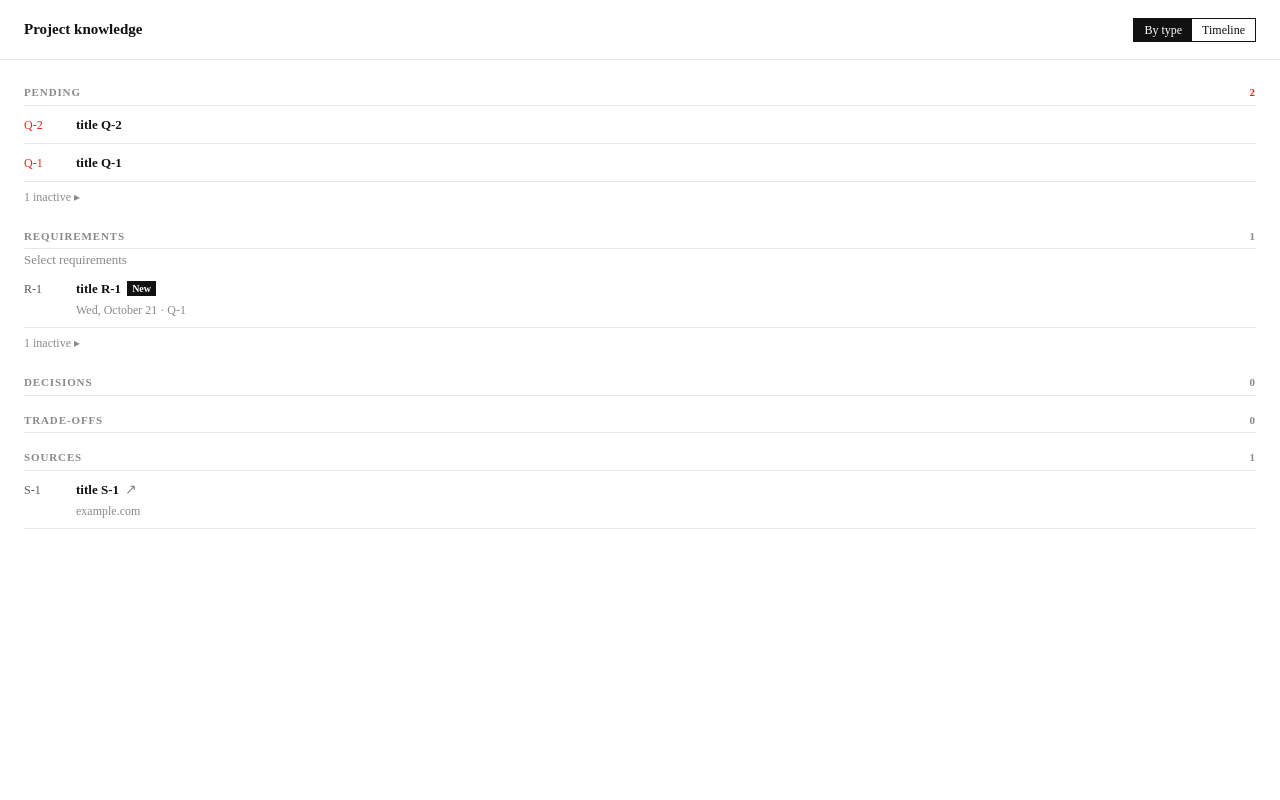
Test: KnowledgePanel › sorts pending by priority and folds inactive entries
Expected: the text "R-2" is not shown
Click the button "1 inactive ▸" below "Wed, October 21 · Q-1" at (52, 343), box [24,328,1256,358]
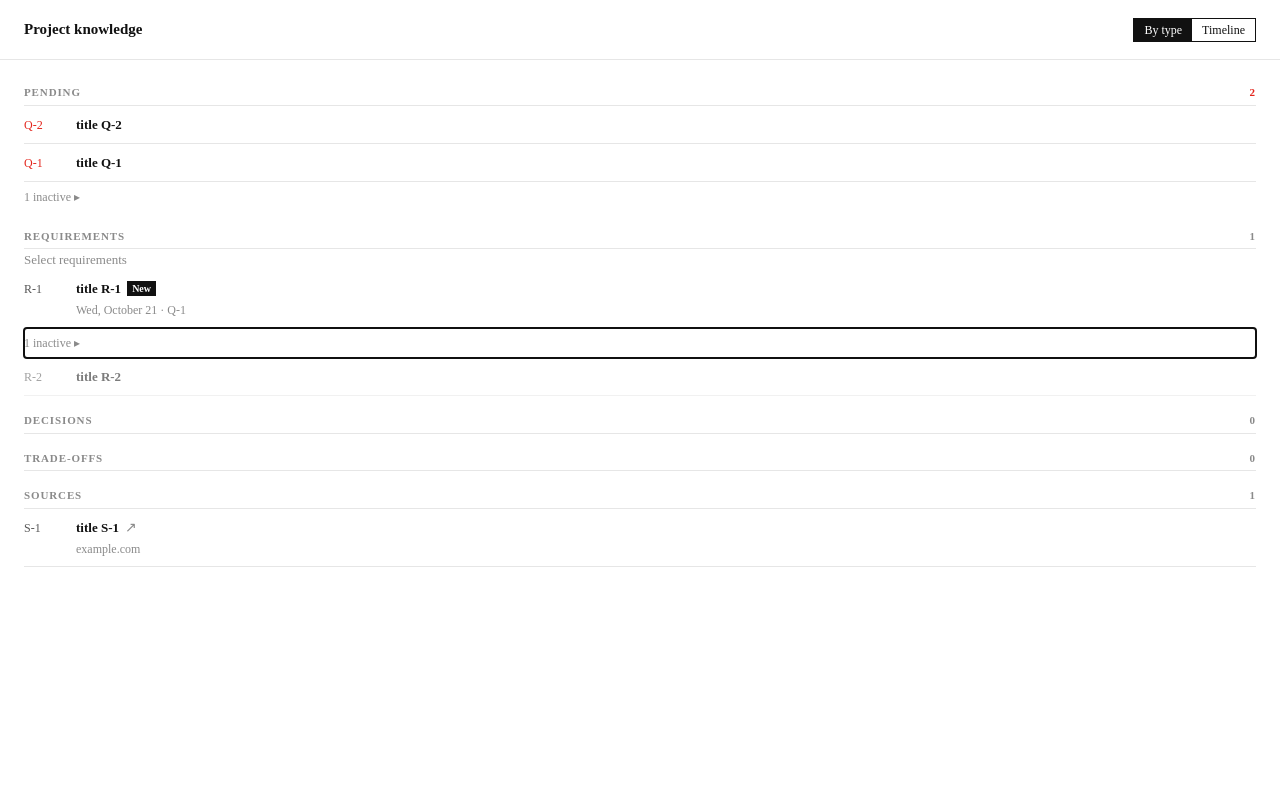
Expected: the text "R-2" is shown, [24,370,42,384]
